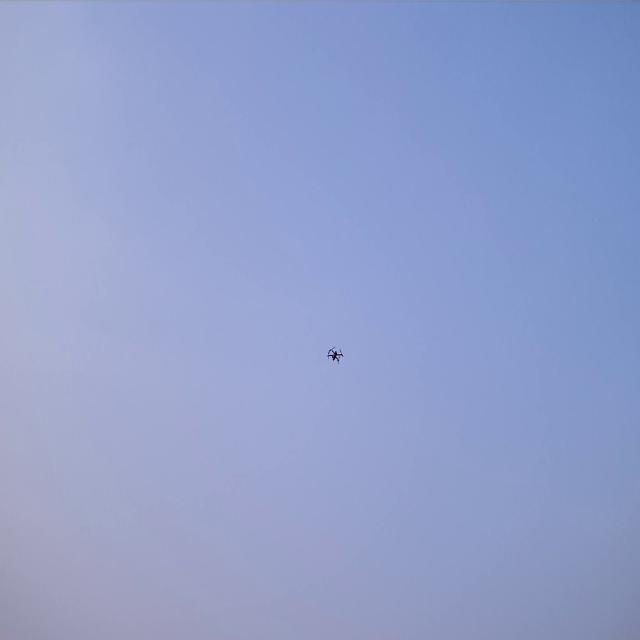UAV: (326, 343, 344, 366)
